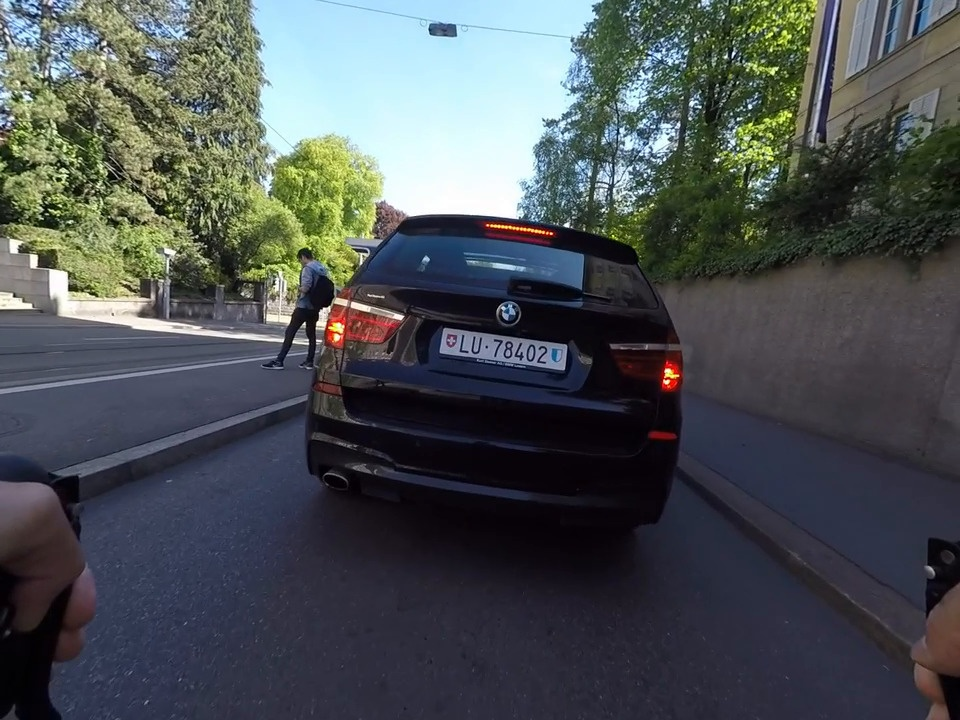car: (291, 203, 702, 553)
